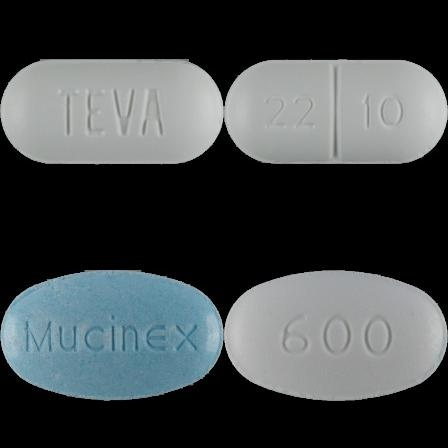63739-943: (0, 0, 224, 224)
